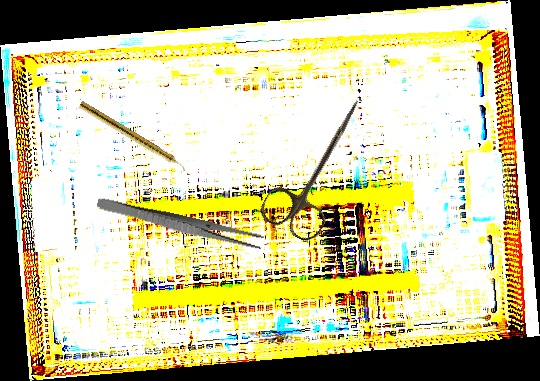Dressing Forceps: (95, 196, 265, 251)
Handpiece: (77, 100, 189, 174)
Iris Scissors: (256, 84, 383, 246)
